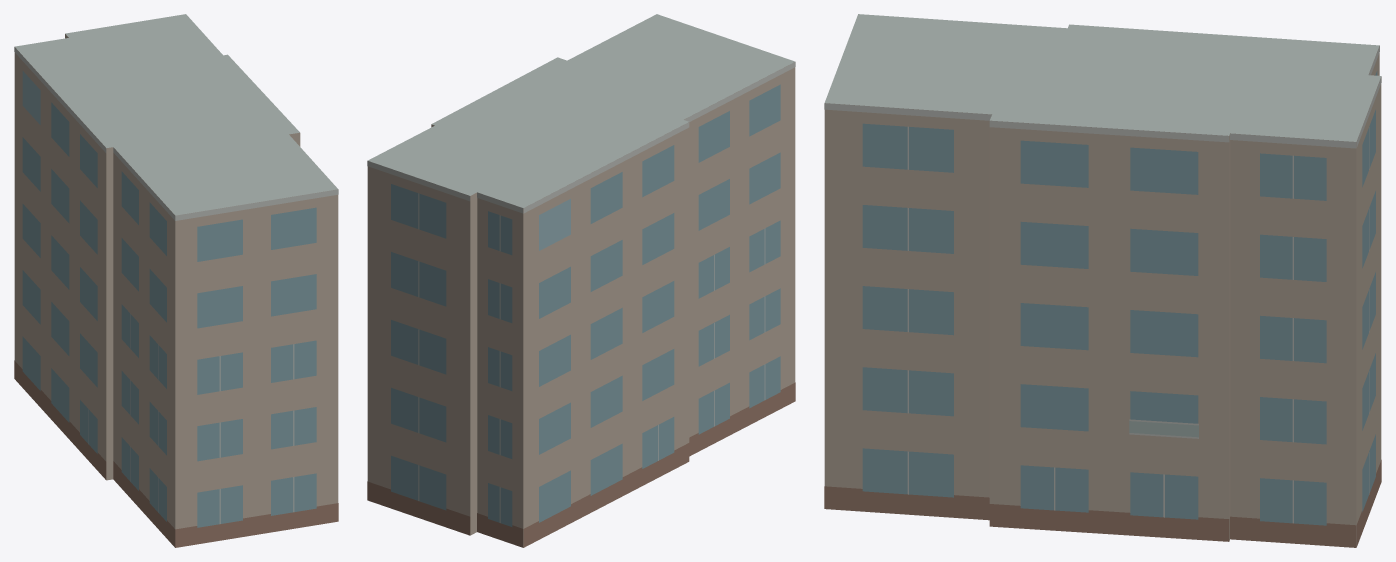
File: survey-upis-32917082.glb
3 renders of one model, left to right at view 1: azimuth 30°, elevation 25°; view 2: azimuth 150°, elevation 25°; view 3: azimuth 270°, elevation 25°, orthographic. The views are drawn at different scales.
Parts seen in each view (by area): view 1: survey-upis-32917082.tmp; view 2: survey-upis-32917082.tmp; view 3: survey-upis-32917082.tmp.
Boxes of the visible parts, bbox=[...] form: survey-upis-32917082.tmp: bbox=[14, 14, 338, 547]; survey-upis-32917082.tmp: bbox=[367, 14, 795, 547]; survey-upis-32917082.tmp: bbox=[824, 14, 1381, 547].
Size of the model in its own units: 10.22 by 15.1 by 18.79.
